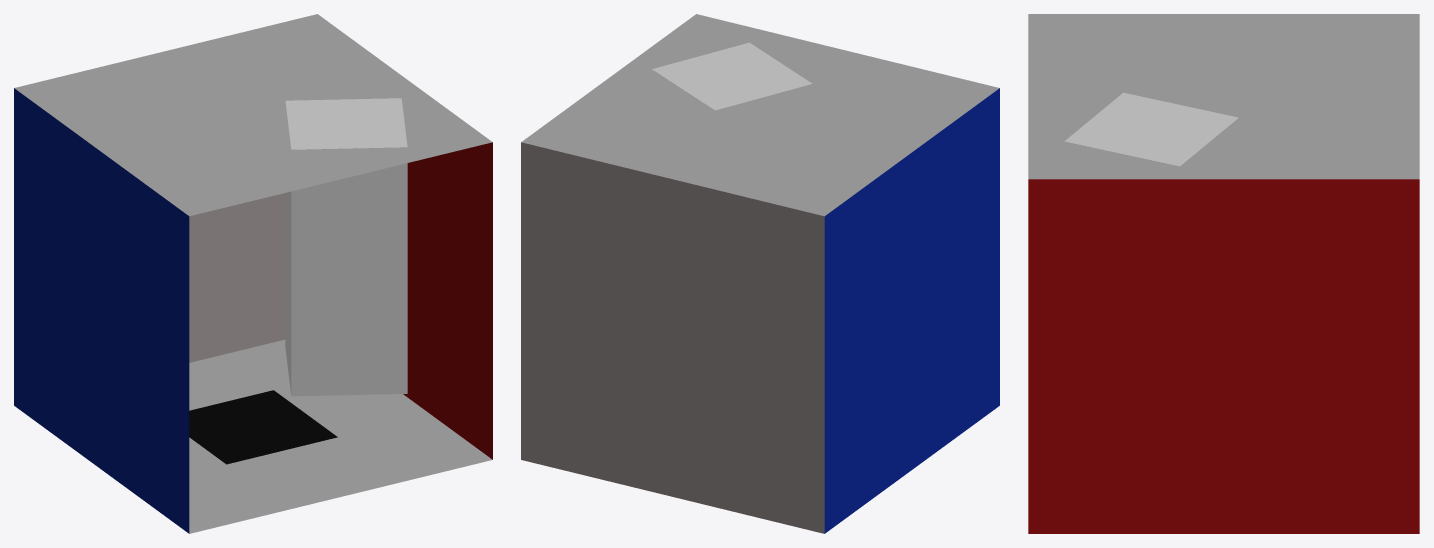
File: cena_nova_difuso.obj
3 renders of one model, left to right at view 1: azimuth 30°, elevation 25°; view 2: azimuth 150°, elevation 25°; view 3: azimuth 270°, elevation 25°, orthographic. The views are drawn at different scales.
Visible parts, largest first — view 1: right_wall_Plane.002_wall3_right_wall_right_wall_Plane.002_.000, floor_Plane_Floor_floor_floor_Plane_Floor_floor_floor.001, Cube_Cube.002, teto_Plane.006_Teto_teto_teto_Plane.006_Teto_teto_teto.001, left_wall_Plane.001_wall1_left_wall_left_wall_Plane.001_wal.000, back_wall_Plane.003_wall2_back_wall.001_back_wall_Plane.003.000, light_Plane.004_Plane_ligth_light_Plane.004_Plane_ligth_lig.000; view 2: back_wall_Plane.003_wall2_back_wall.001_back_wall_Plane.003.000, right_wall_Plane.002_wall3_right_wall_right_wall_Plane.002_.000, floor_Plane_Floor_floor_floor_Plane_Floor_floor_floor.001, Cube_Cube.002; view 3: left_wall_Plane.001_wall1_left_wall_left_wall_Plane.001_wal.000, floor_Plane_Floor_floor_floor_Plane_Floor_floor_floor.001, Cube_Cube.002.
Part boxes in pixels (box(x1,y1,x2,y2)): right_wall_Plane.002_wall3_right_wall_right_wall_Plane.002_.000: box(14, 88, 189, 533); floor_Plane_Floor_floor_floor_Plane_Floor_floor_floor.001: box(14, 14, 492, 216); Cube_Cube.002: box(285, 98, 407, 396); teto_Plane.006_Teto_teto_teto_Plane.006_Teto_teto_teto.001: box(189, 339, 492, 533); left_wall_Plane.001_wall1_left_wall_left_wall_Plane.001_wal.000: box(403, 142, 492, 459); back_wall_Plane.003_wall2_back_wall.001_back_wall_Plane.003.000: box(189, 193, 285, 362); light_Plane.004_Plane_ligth_light_Plane.004_Plane_ligth_lig.000: box(189, 390, 337, 464); back_wall_Plane.003_wall2_back_wall.001_back_wall_Plane.003.000: box(521, 142, 824, 533); right_wall_Plane.002_wall3_right_wall_right_wall_Plane.002_.000: box(824, 88, 999, 533); floor_Plane_Floor_floor_floor_Plane_Floor_floor_floor.001: box(521, 14, 999, 216); Cube_Cube.002: box(652, 42, 812, 110); left_wall_Plane.001_wall1_left_wall_left_wall_Plane.001_wal.000: box(1028, 179, 1419, 533); floor_Plane_Floor_floor_floor_Plane_Floor_floor_floor.001: box(1028, 14, 1419, 179); Cube_Cube.002: box(1064, 92, 1238, 166).
Size of the model in its own units: 2 by 2 by 2.
